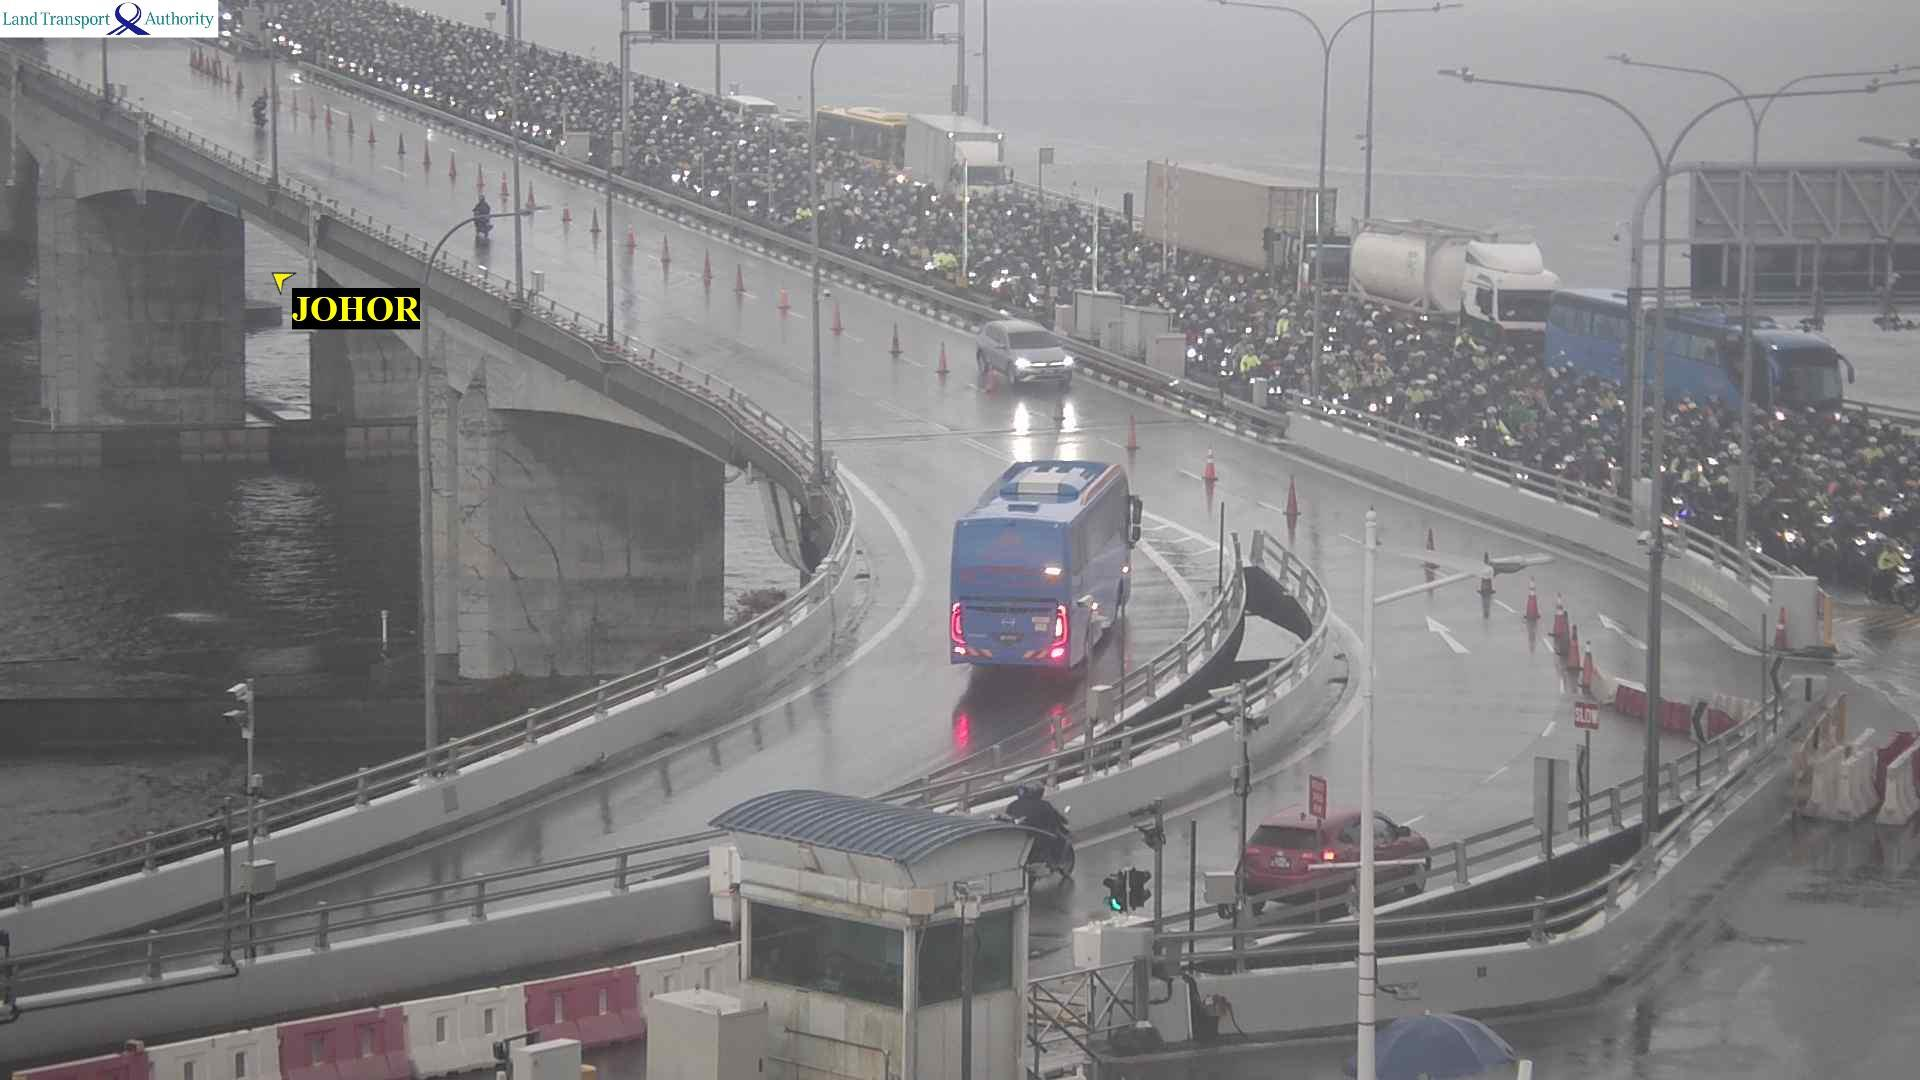vehicle-secondlink-johor: (955, 443, 1125, 676), (1247, 783, 1439, 881), (1001, 786, 1080, 861), (471, 195, 492, 235)
vehicle-secondlink-singapore: (1548, 289, 1854, 434), (1147, 160, 1353, 291), (1357, 218, 1557, 347), (818, 109, 1007, 214), (981, 318, 1073, 389), (721, 96, 775, 123)
